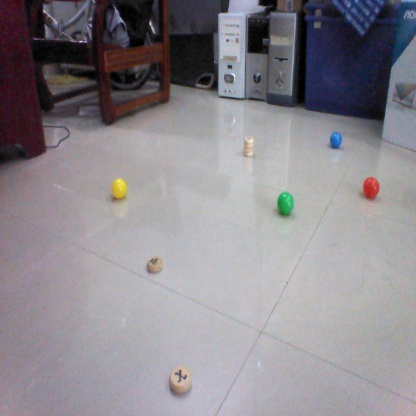ball: (360, 174, 384, 198), (276, 191, 300, 215), (110, 175, 134, 199), (327, 132, 346, 152)
chess: (167, 366, 194, 396), (146, 255, 165, 276), (244, 134, 258, 158)
